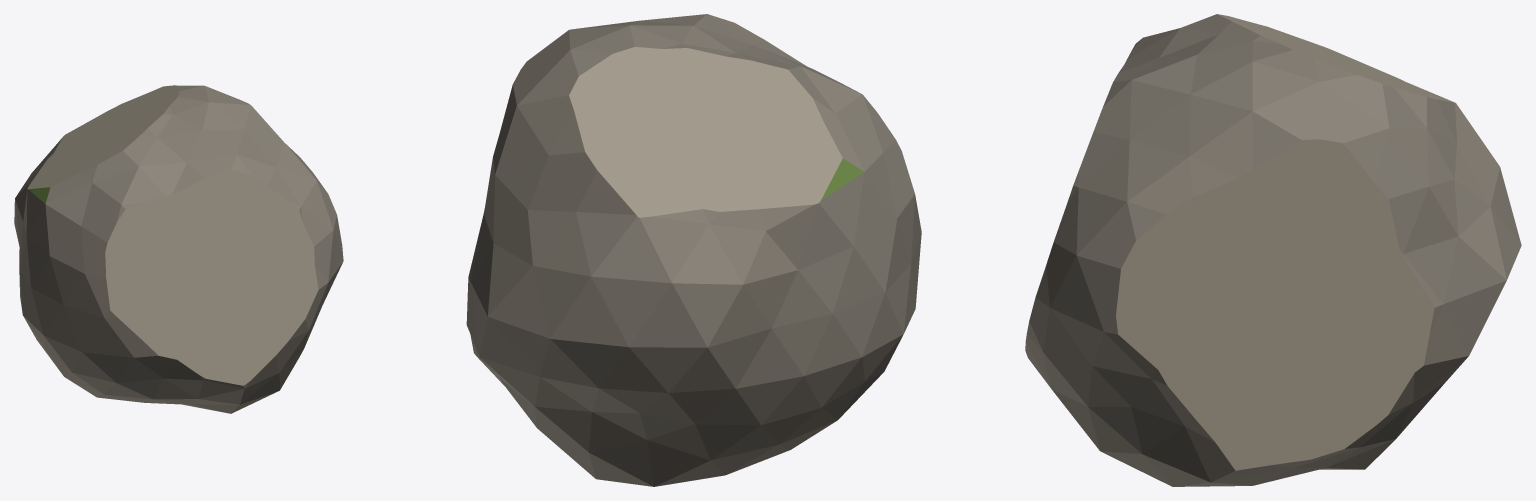
The model's file is boulder.glb.
3 views of the same model, side by side, from view 1: azimuth 30°, elevation 25°; view 2: azimuth 150°, elevation 25°; view 3: azimuth 270°, elevation 25° (orthographic). The views are drawn at different scales.
Visible parts, largest first — view 1: Boulder; view 2: Boulder; view 3: Boulder.
Part boxes in pixels (bbox=[...]): Boulder: bbox=[14, 85, 343, 413]; Boulder: bbox=[466, 14, 921, 486]; Boulder: bbox=[1025, 14, 1521, 486].
Bounding box in the file's own units: 1.53 × 1.56 × 1.67.
